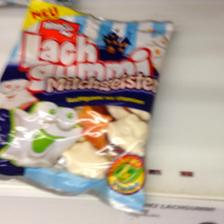Suessigkeit: (3, 1, 167, 213)
